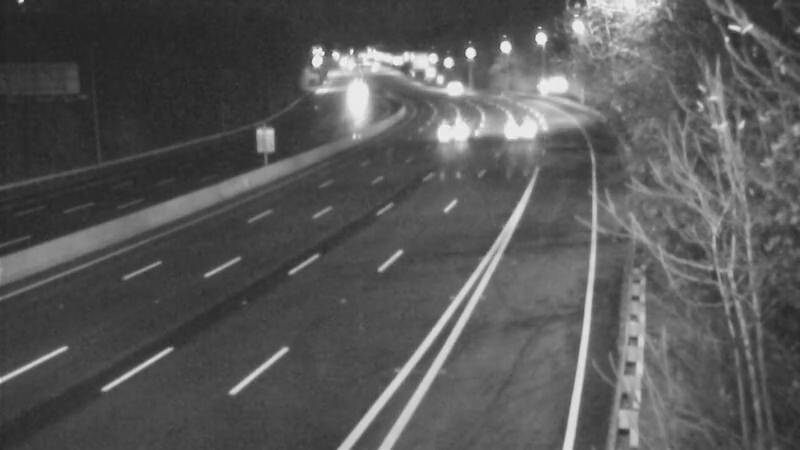vehicle: (427, 64, 477, 114), (495, 100, 545, 150), (423, 104, 473, 154), (327, 71, 377, 121)
